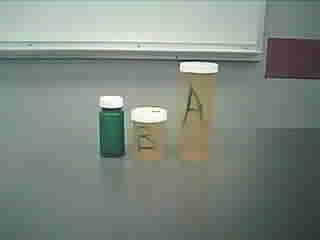Bottle A: (176, 55, 222, 164)
Bottle B: (128, 105, 170, 163)
Bottle C: (93, 92, 126, 163)
